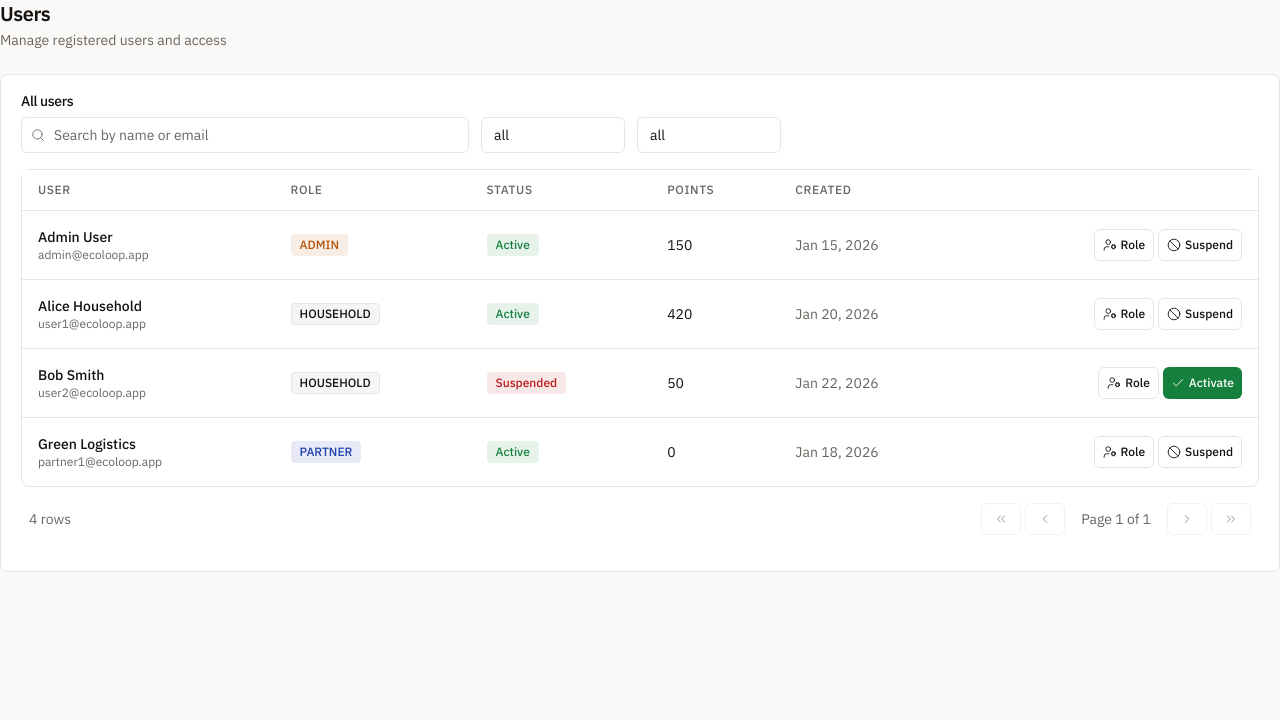
Test: Users › opens and confirms suspend dialog
The image size is (1280, 720).
Expected: the text "Admin User" is shown, [38,228,113,246]
Click the button "Suspend" in the row of "Admin User": (1200, 244) [1158,228,1242,260]
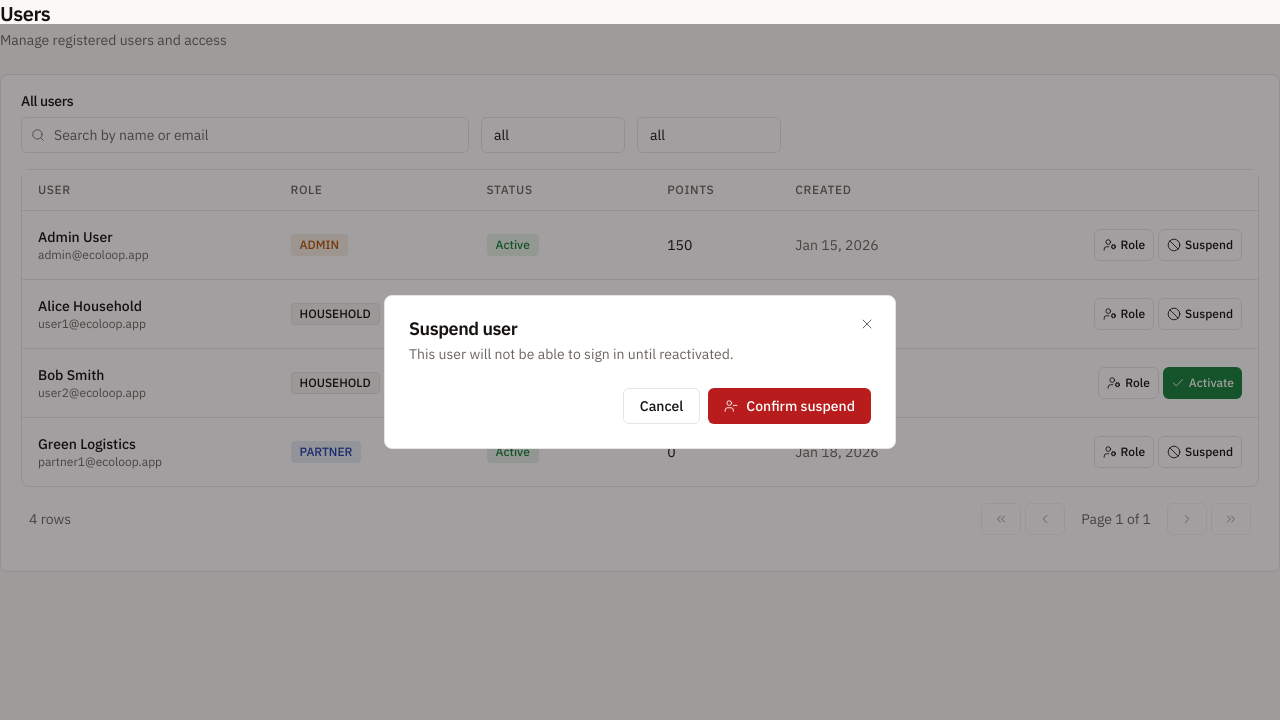
Expected: the heading "Suspend user" is shown, [409,317,517,340]
Expected: the text "This user will not be able to sign in until reactivated." is shown, [409,345,734,363]
Click the button "Confirm suspend": (790, 406) [708,388,871,424]
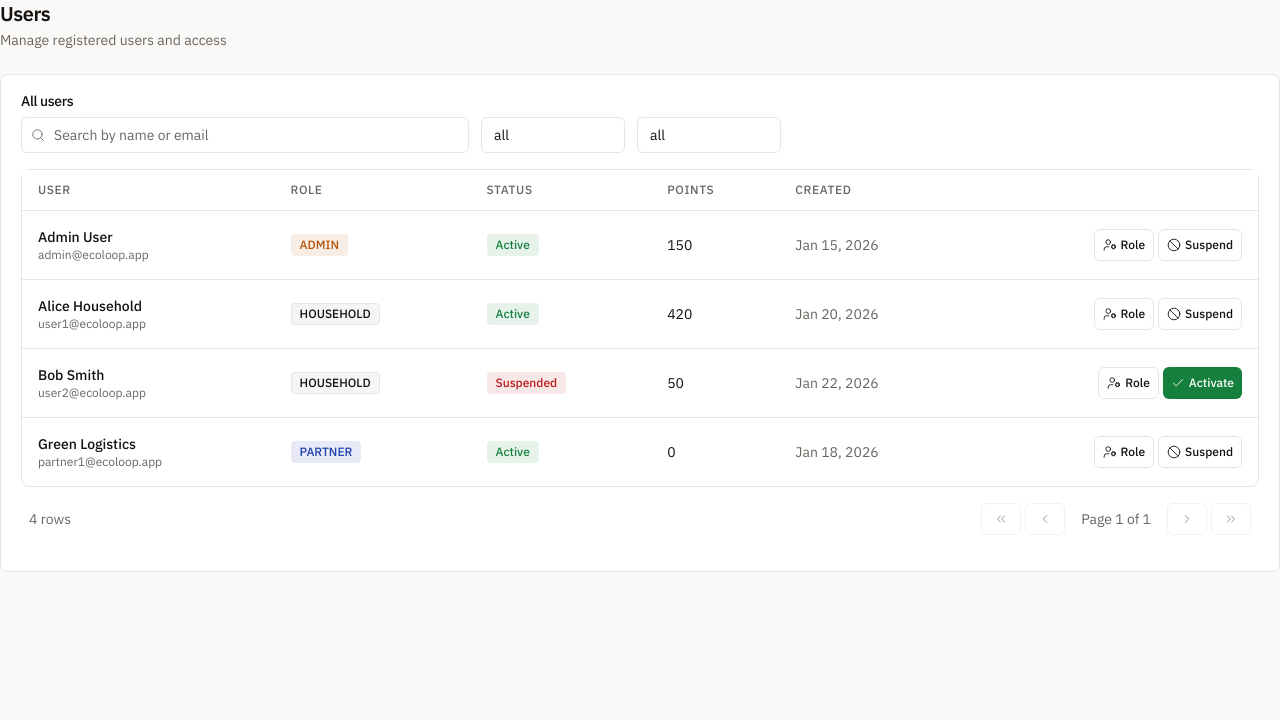
Expected: the heading "Suspend user" is gone
